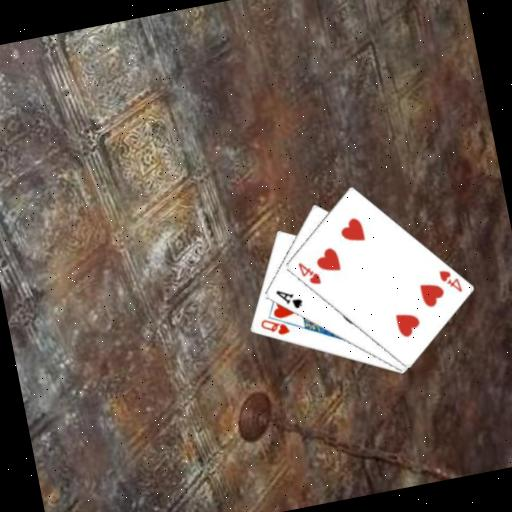4H: (294, 256, 323, 290), (435, 264, 464, 298)
AS: (272, 283, 305, 314)
QH: (256, 312, 292, 341)
